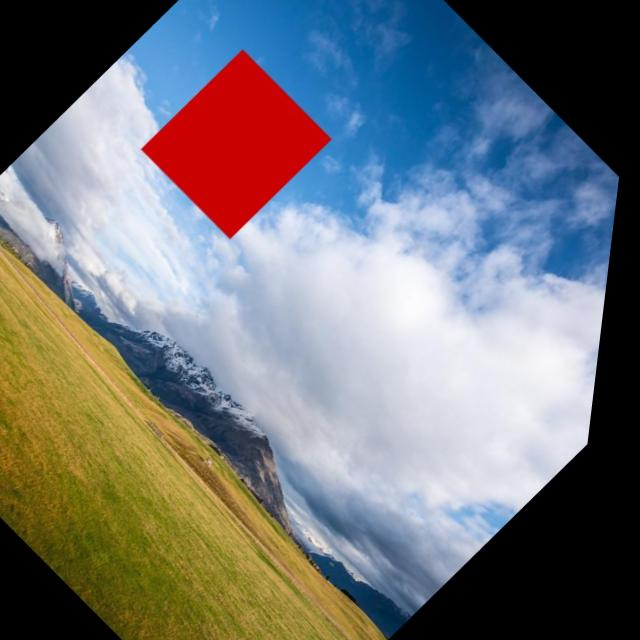RedSquare: (126, 42, 353, 250)
